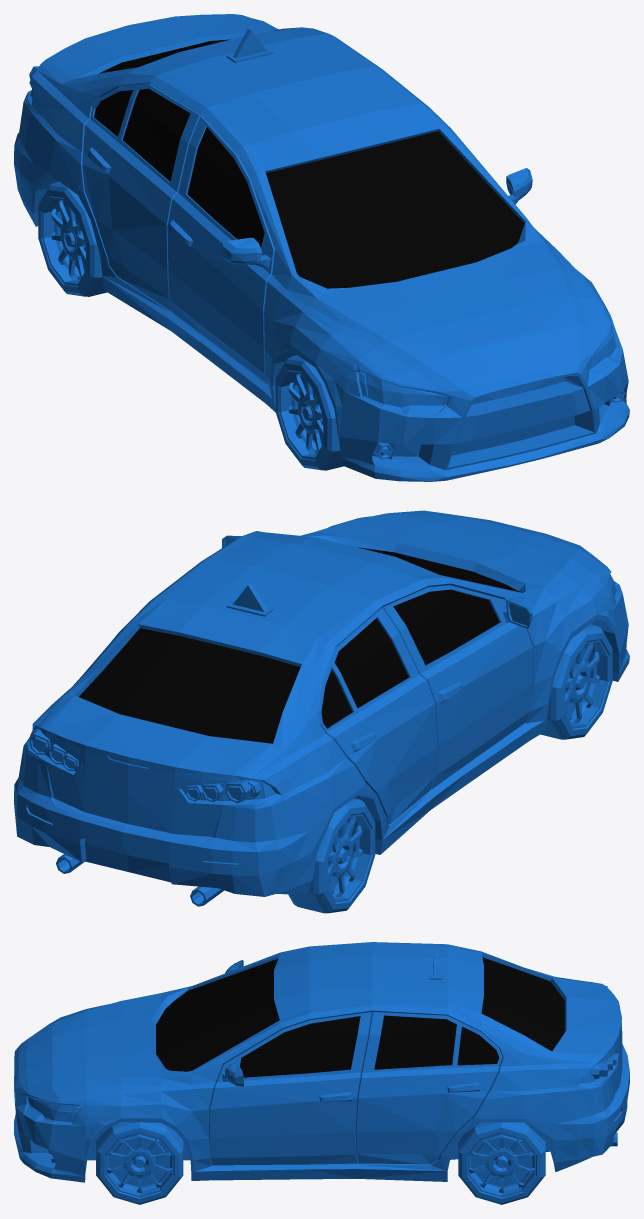
The model's file is SM_car_u.fbx.
3 views of the same model, one above another, from view 1: azimuth 30°, elevation 25°; view 2: azimuth 150°, elevation 25°; view 3: azimuth 270°, elevation 25° (orthographic). The views are drawn at different scales.
Parts seen in each view (by area): view 1: Symmetry_10, Cylinder_3, Cylinder_4; view 2: Symmetry_10, Cylinder_4, Cylinder_3; view 3: Symmetry_10, Cylinder_1, Cylinder_4.
Part boxes in pixels (x1,y1,x2,y2): Symmetry_10: [14, 14, 629, 481]; Cylinder_3: [275, 355, 343, 470]; Cylinder_4: [38, 181, 106, 296]; Symmetry_10: [14, 510, 629, 906]; Cylinder_4: [288, 798, 375, 913]; Cylinder_3: [540, 624, 612, 739]; Symmetry_10: [14, 942, 629, 1182]; Cylinder_1: [96, 1122, 183, 1204]; Cylinder_4: [458, 1122, 545, 1204].
Bounding box in the file's own units: 184 × 150 × 418.
